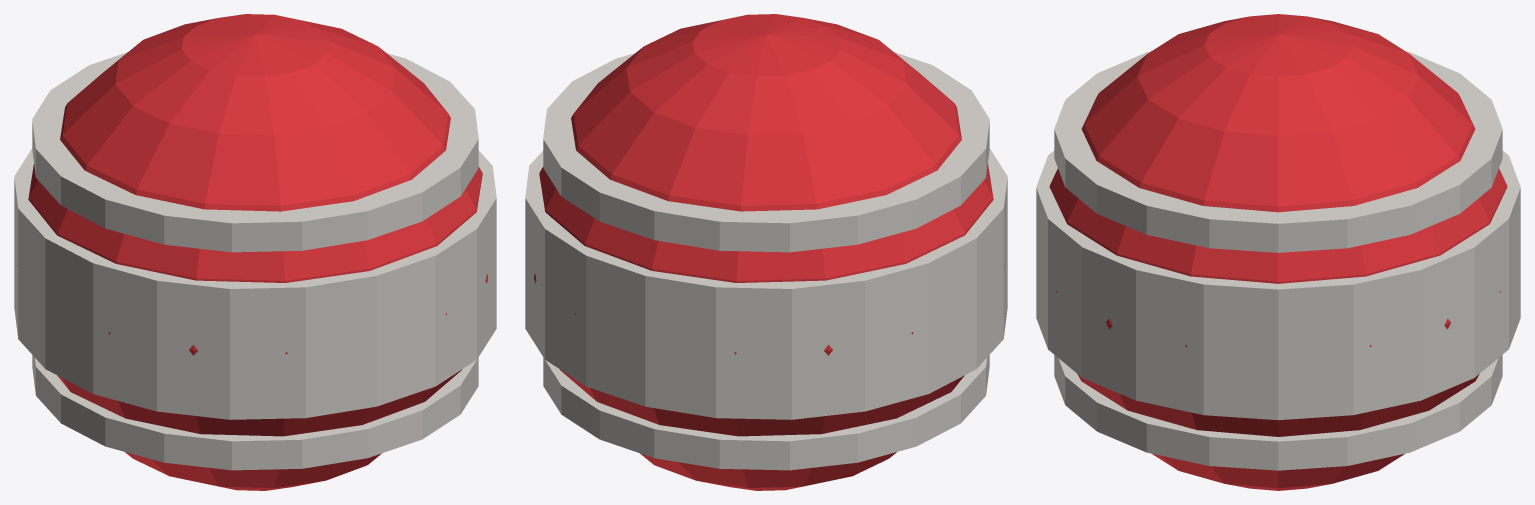
The model's file is ball.glb.
3 renders of one model, left to right at view 1: azimuth 30°, elevation 25°; view 2: azimuth 150°, elevation 25°; view 3: azimuth 270°, elevation 25°, orthographic.
Parts seen in each view (by area): view 1: ball; view 2: ball; view 3: ball.
Boxes of the visible parts, box(x1,y1,x2,y2) form: ball: box(14, 14, 496, 490); ball: box(525, 14, 1007, 490); ball: box(1036, 14, 1520, 490).
Size of the model in its own units: 0.121 by 0.12 by 0.121.
